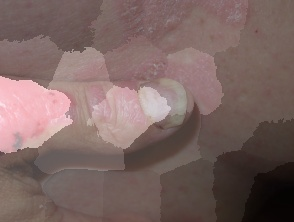Nail_psoriasis: (109, 66, 200, 143)
